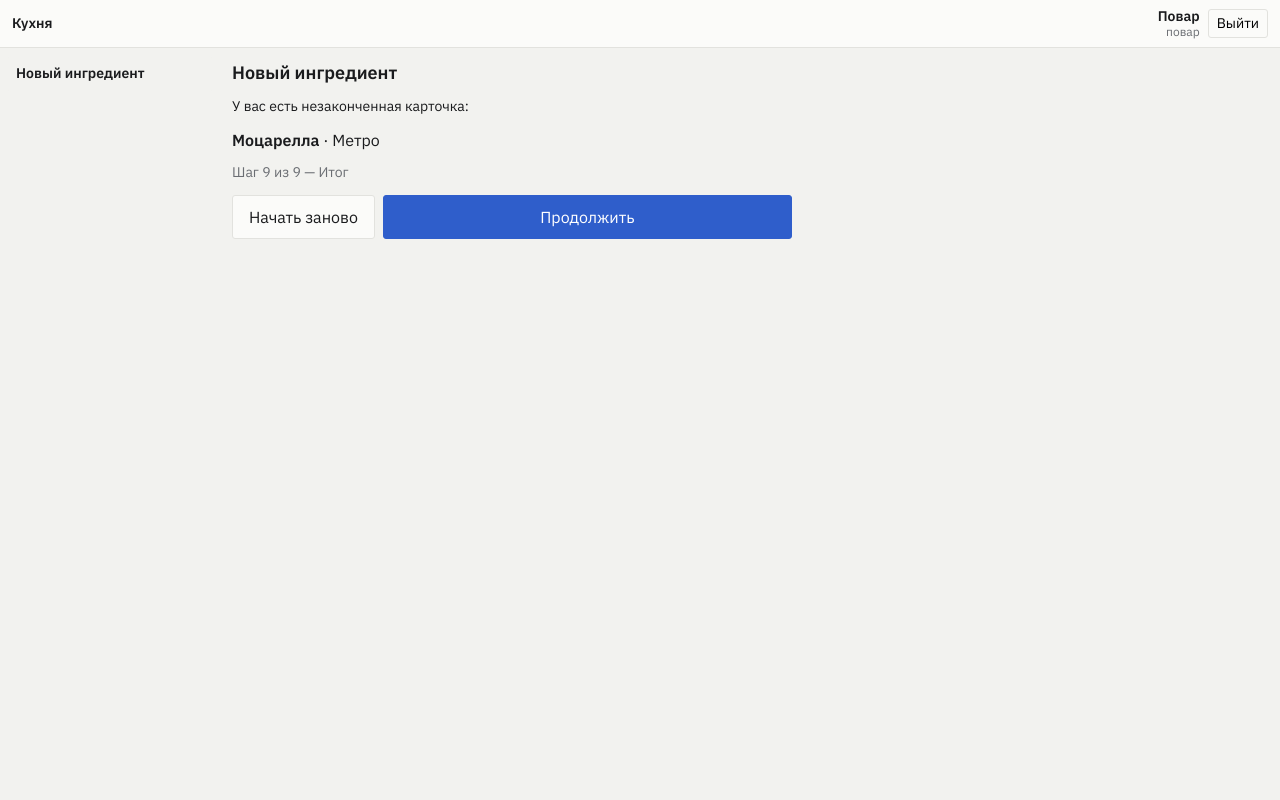
в итоге видно, чего не хватает: «Отправить» недоступна, касание ведёт к шагу
Click the button "Продолжить": (587, 217) [383,195,792,239]
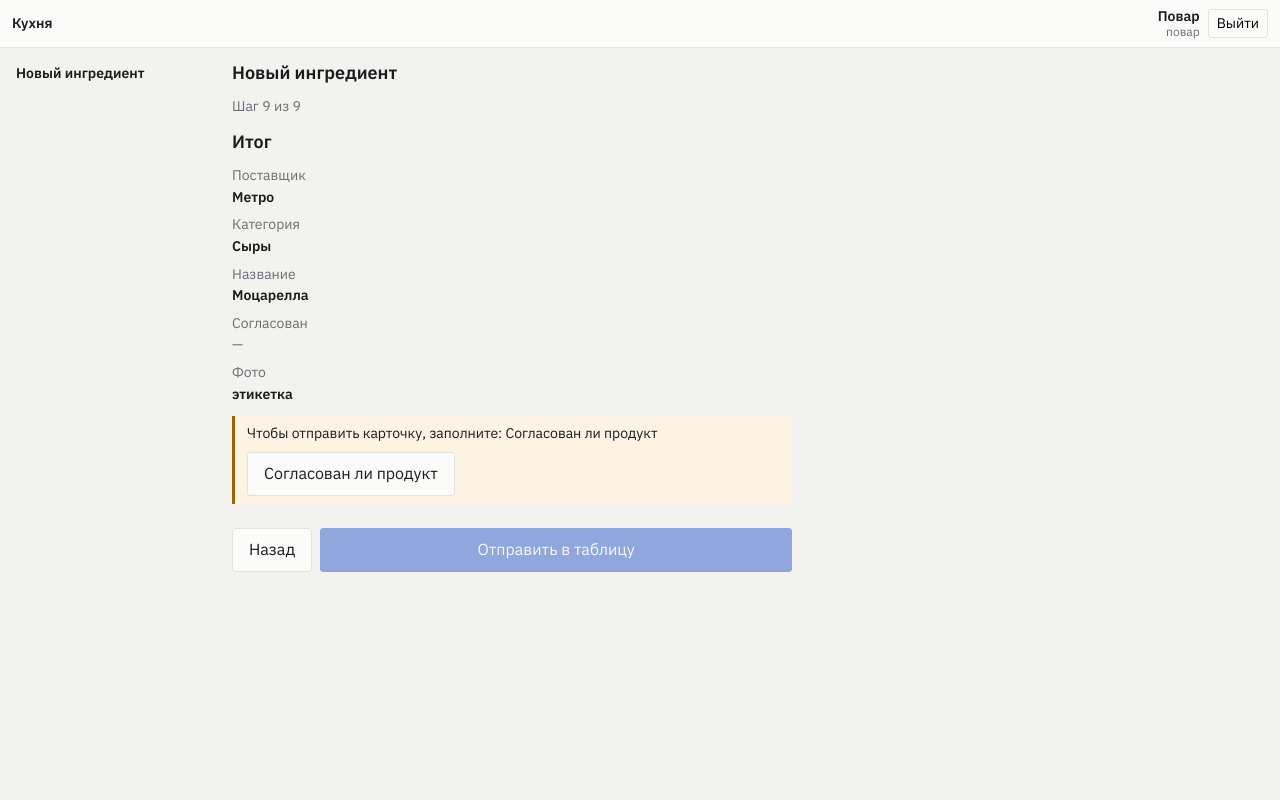
Expected: the text "Шаг 9 из 9" is shown, [232,97,301,115]
Expected: the text "Чтобы отправить карточку, заполните: Согласован ли продукт" is shown, [247,424,658,442]
Expected: the button "Отправить в таблицу" is disabled, [320,528,792,572]
Click the button "Согласован ли продукт": (351, 474) [247,452,455,496]
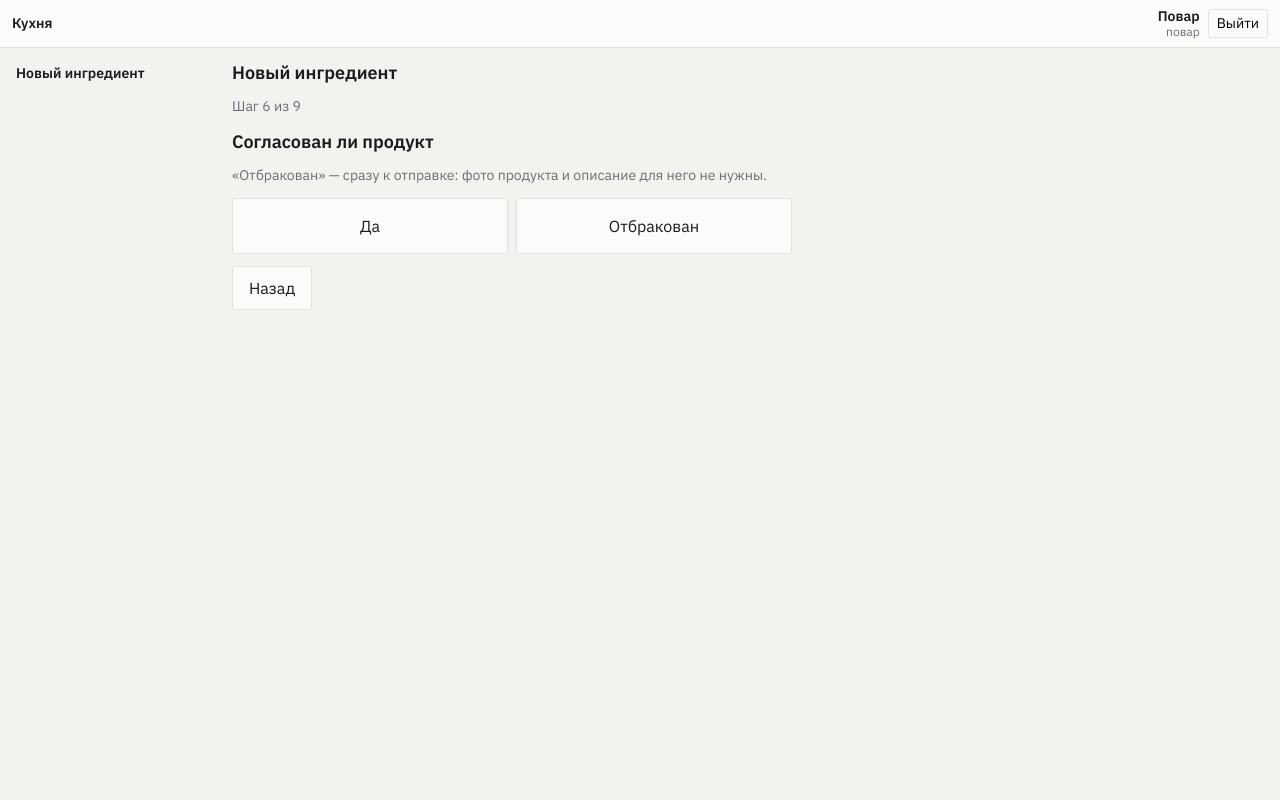
Expected: the text "Шаг 6 из 9" is shown, [232,97,301,115]
